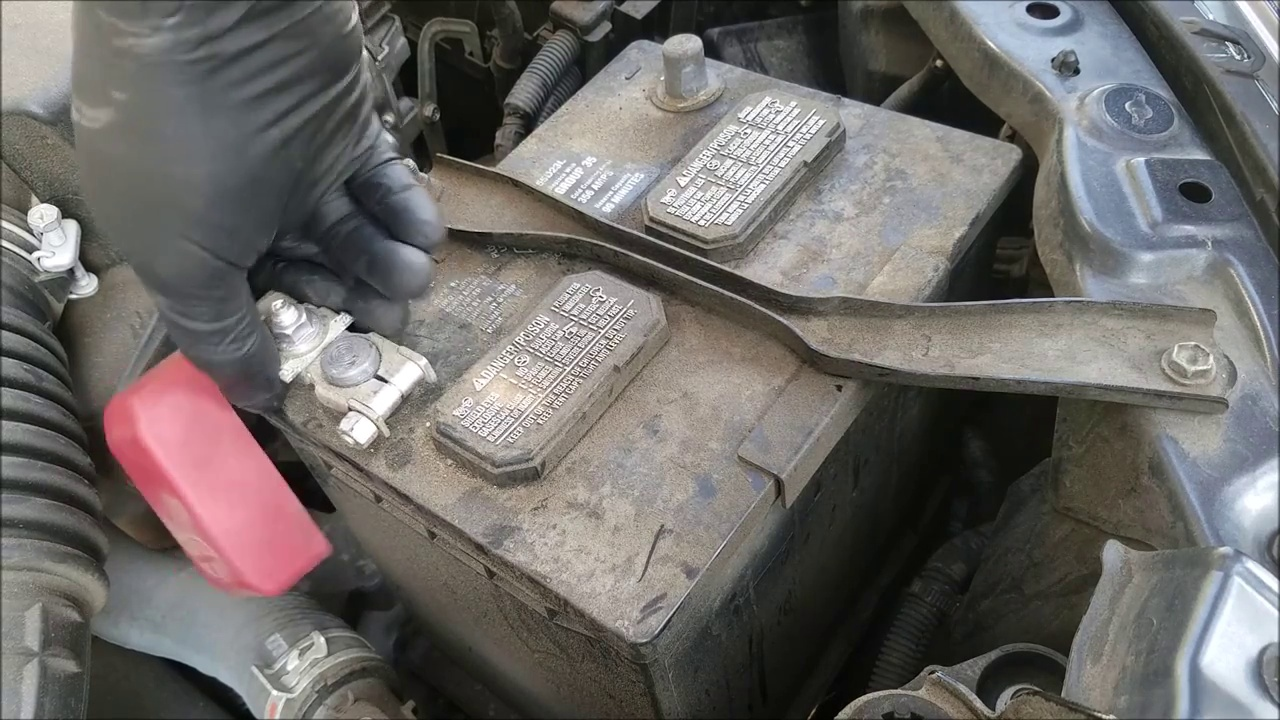battery: (240, 32, 1010, 626)
neg_disconnected: (620, 17, 765, 137)
pos_connected: (100, 270, 443, 559)
pos_touched: (181, 134, 437, 575)
